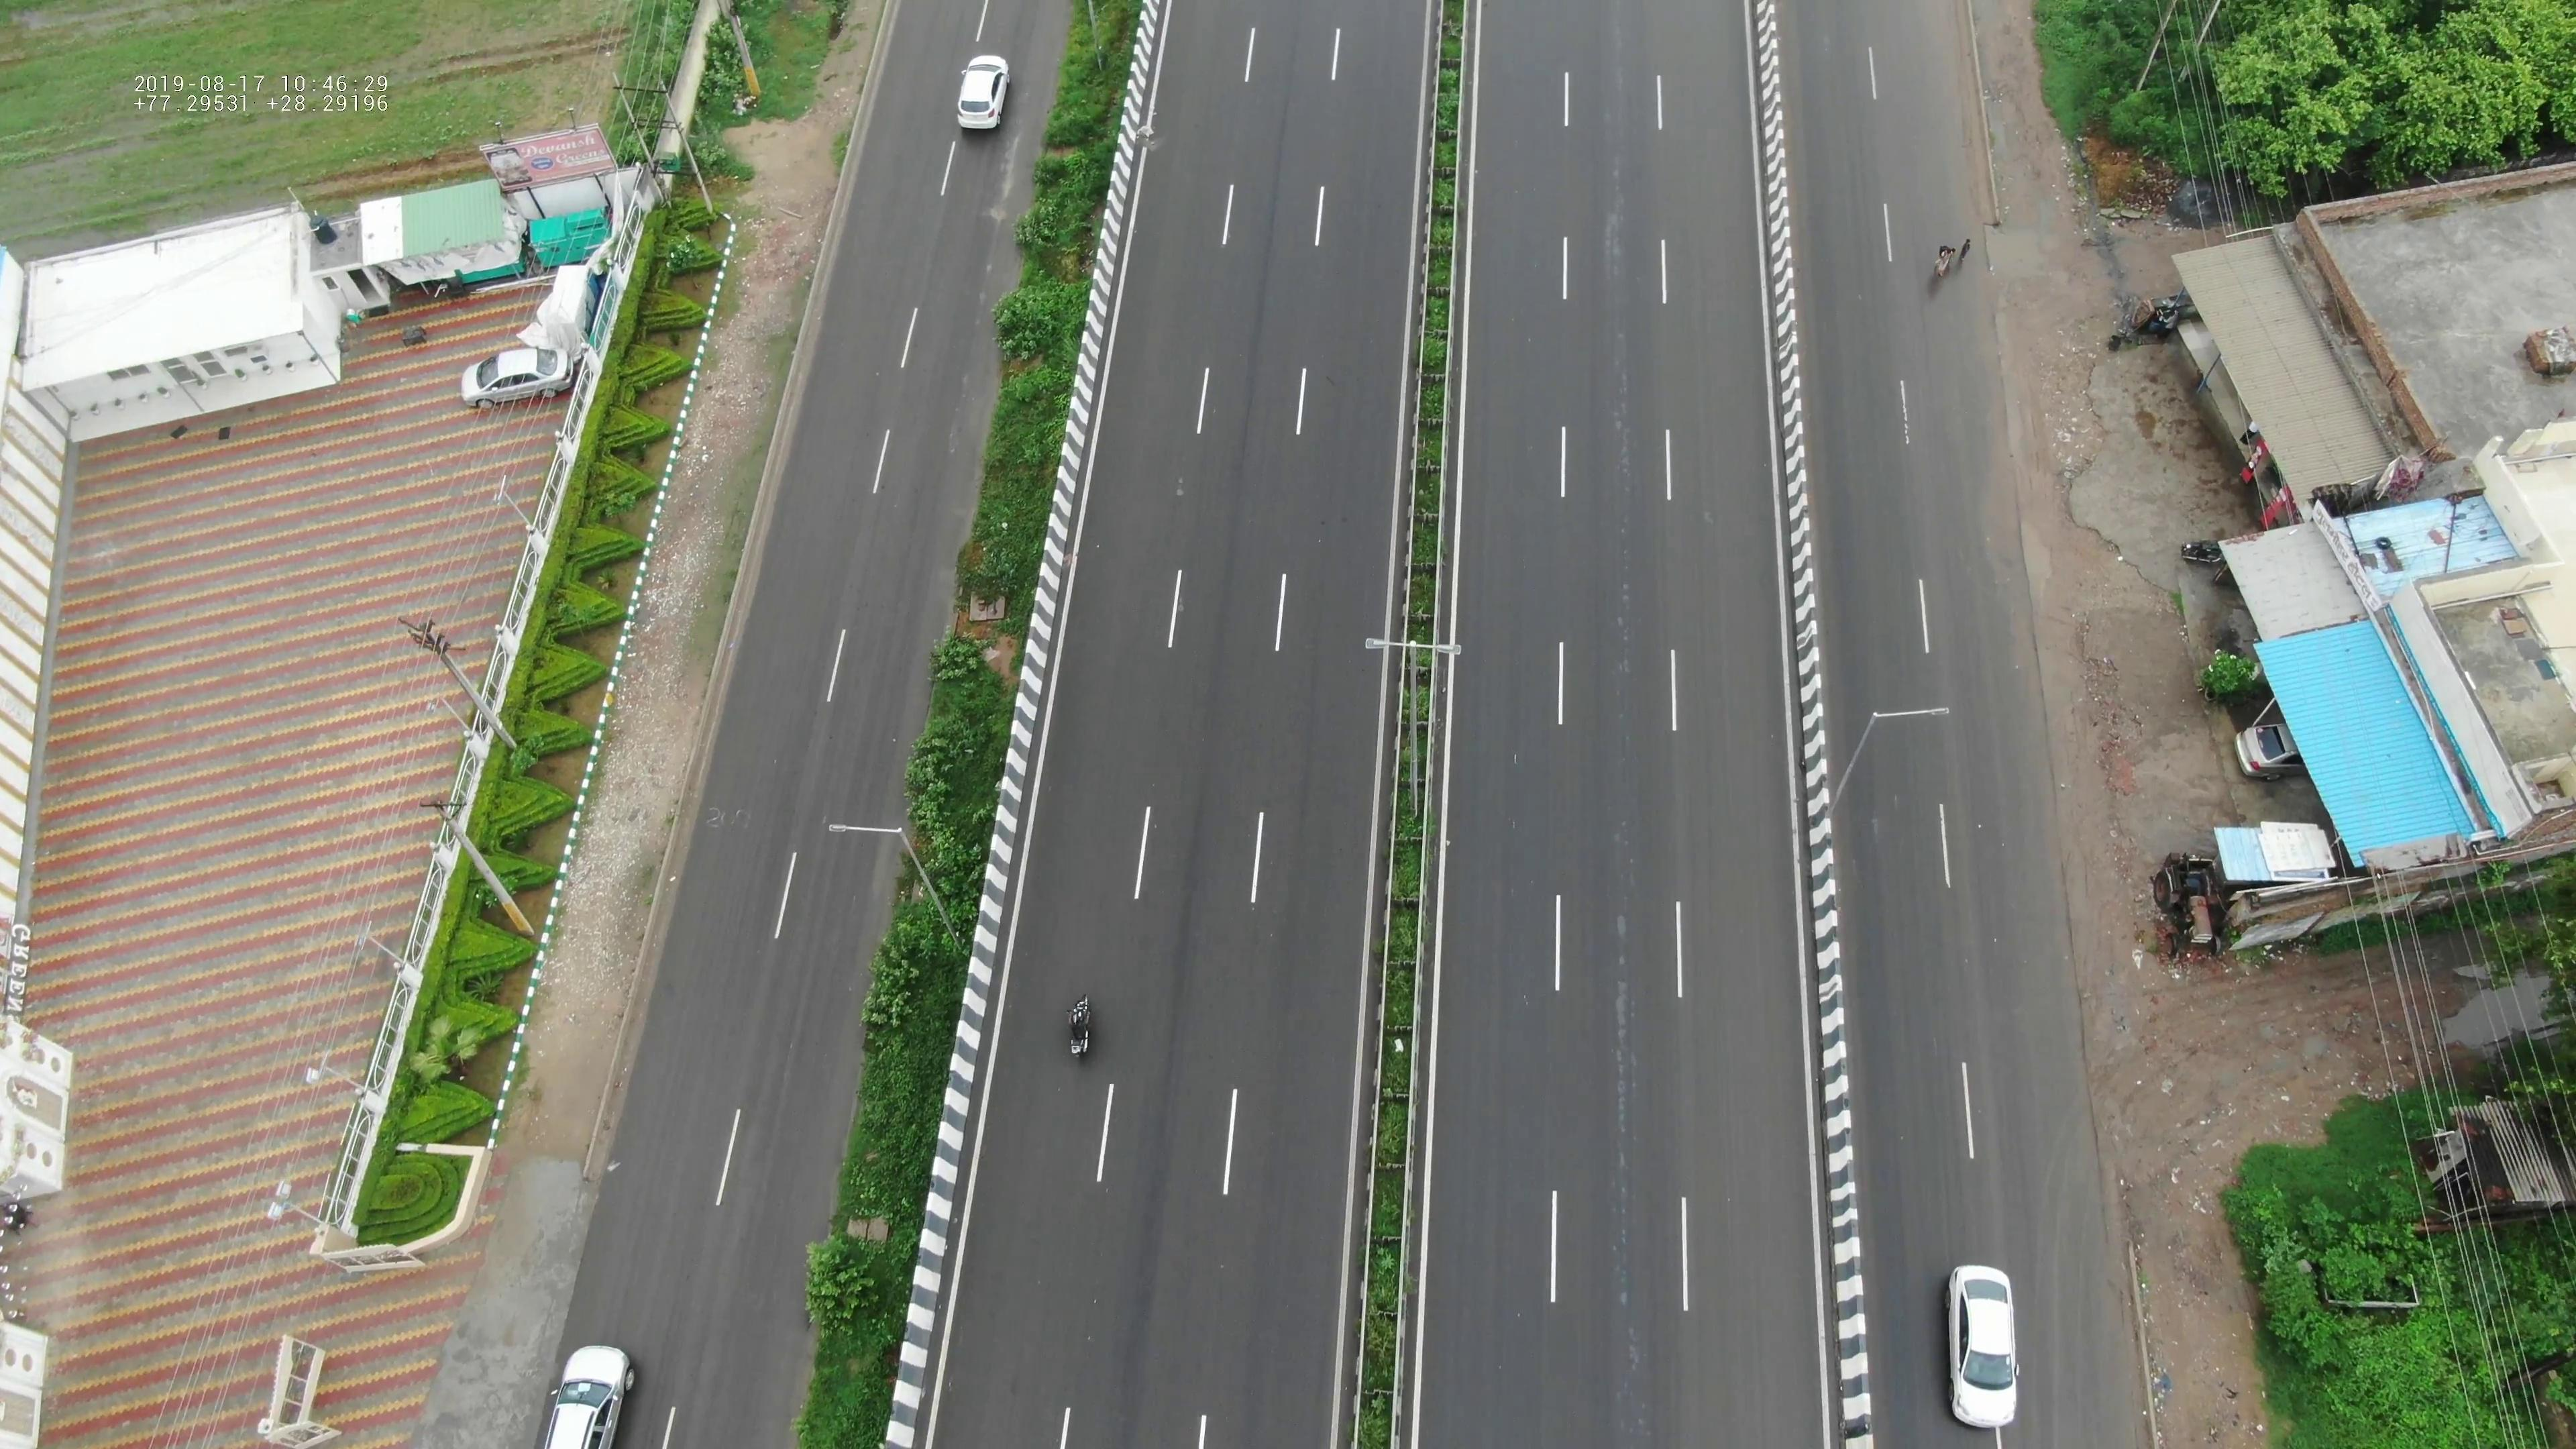Muddy_road: (2006, 456, 2065, 610)
